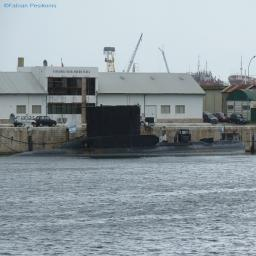submarine: (13, 103, 247, 160)
